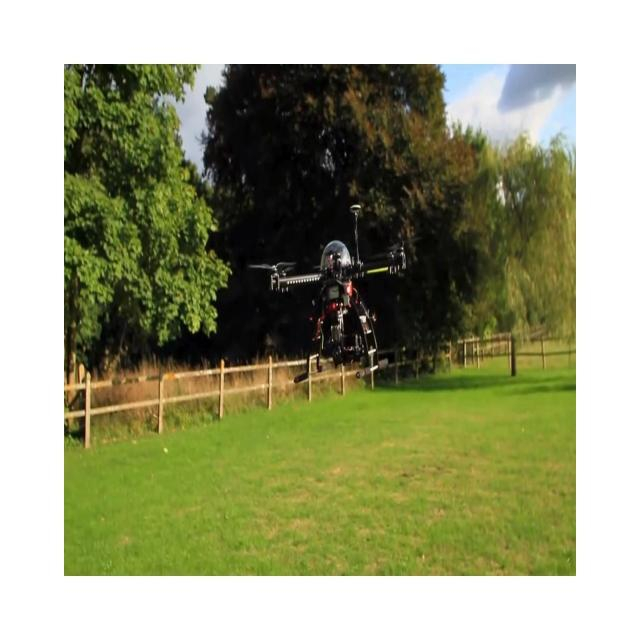drone: (247, 202, 406, 386)
